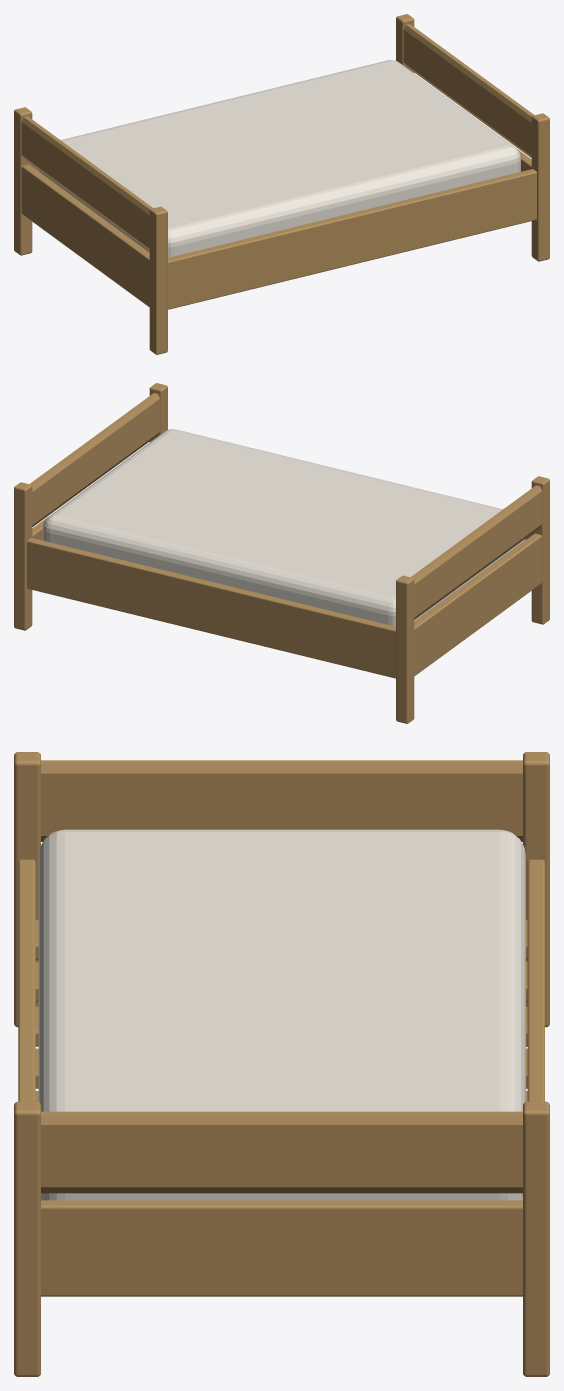
Rendered from bed4.obj.
3 views of the same model, one above another, from view 1: azimuth 30°, elevation 25°; view 2: azimuth 150°, elevation 25°; view 3: azimuth 270°, elevation 25° (orthographic). The views are drawn at different scales.
Parts seen in each view (by area): view 1: bed4; view 2: bed4; view 3: bed4.
Boxes of the visible parts, <box> form: bed4: <box>14,14,549,354</box>; bed4: <box>14,383,549,723</box>; bed4: <box>14,752,549,1376</box>.
Size of the model in its own units: 6135 by 2109 by 3847.
